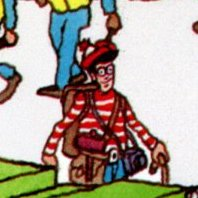waldo: (88, 45, 114, 92)
